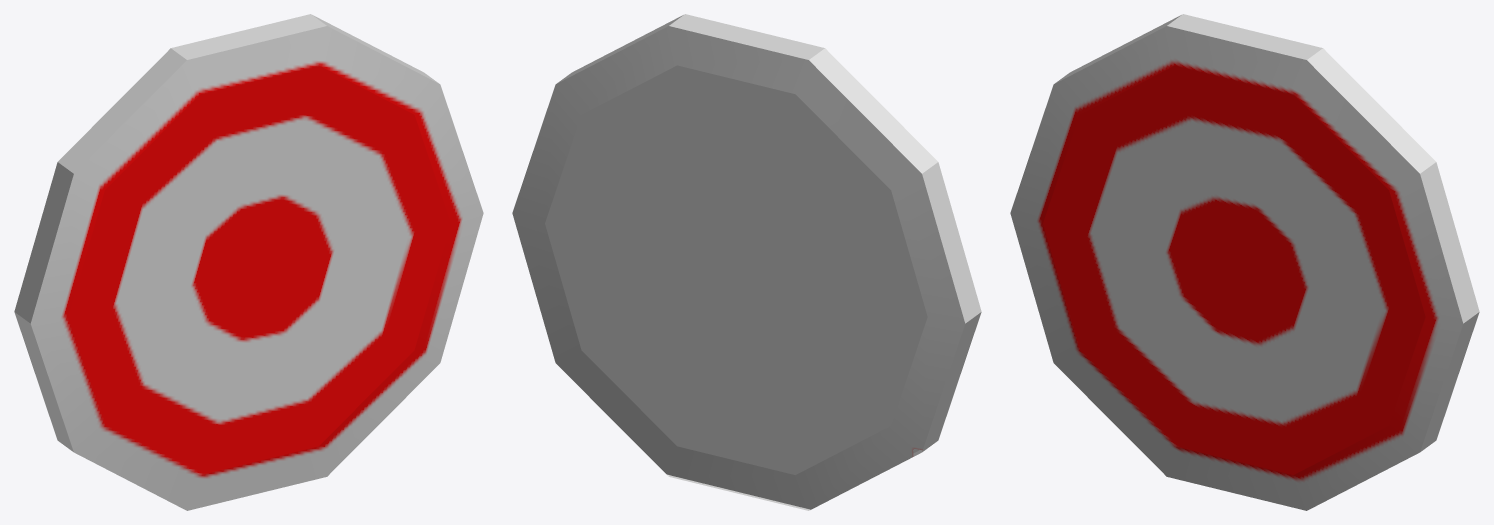
The model's file is target.fbx.
3 views of the same model, side by side, from view 1: azimuth 30°, elevation 25°; view 2: azimuth 150°, elevation 25°; view 3: azimuth 330°, elevation 25° (orthographic).
Visible parts, largest first — view 1: target; view 2: target; view 3: target.
Boxes of the visible parts, bbox=[...] form: target: bbox=[14, 14, 483, 510]; target: bbox=[512, 14, 981, 510]; target: bbox=[1010, 14, 1479, 510].
Size of the model in its own units: 80 by 76.08 by 6.53.
Materials: 1 (1 with a texture image).
